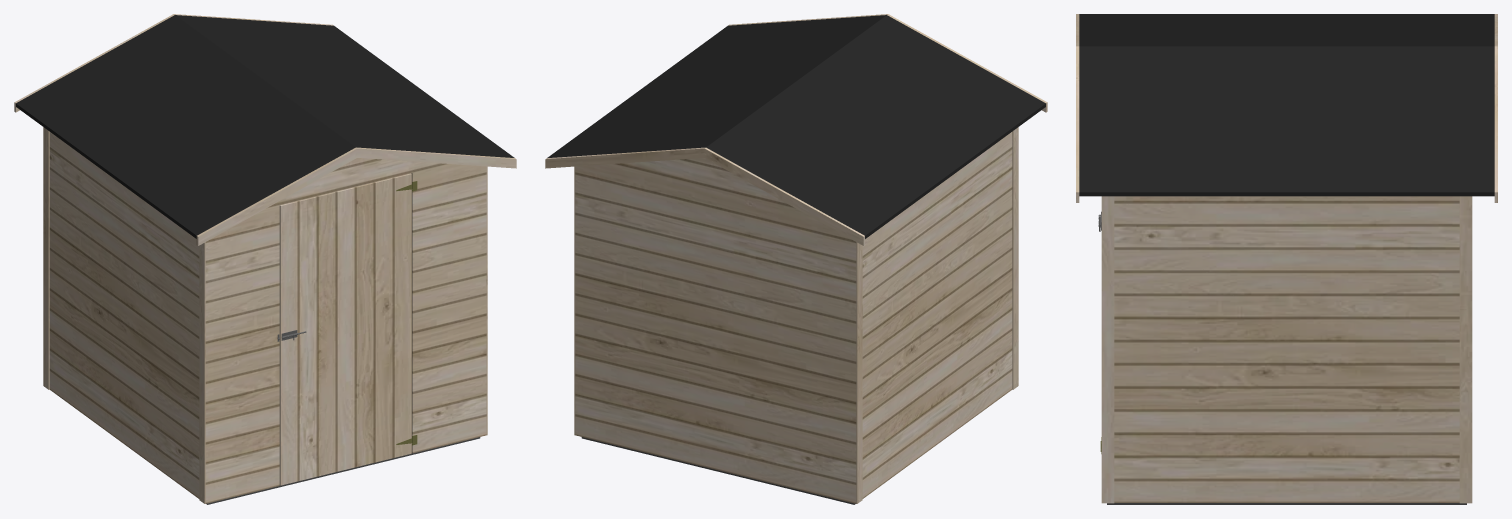
Rendered from sh-scopia-garden-hut.glb.
The picture shows the model from 3 angles, left to right: view 1: azimuth 30°, elevation 25°; view 2: azimuth 150°, elevation 25°; view 3: azimuth 270°, elevation 25°; orthographic projection. The views are drawn at different scales.
Parts seen in each view (by area): view 1: roof_Cube.006, hut_Cube; view 2: roof_Cube.006, hut_Cube; view 3: roof_Cube.006, hut_Cube.
Part boxes in pixels (x1=…): roof_Cube.006: x1=14, y1=14, x2=516, y2=503; hut_Cube: x1=206, y1=437, x2=480, y2=504; roof_Cube.006: x1=545, y1=14, x2=1047, y2=503; hut_Cube: x1=581, y1=437, x2=855, y2=504; roof_Cube.006: x1=1076, y1=14, x2=1497, y2=503; hut_Cube: x1=1107, y1=503, x2=1466, y2=504.
Bounding box in the file's own units: 1 × 1 × 1.
Materials: 5 (1 with a texture image).
